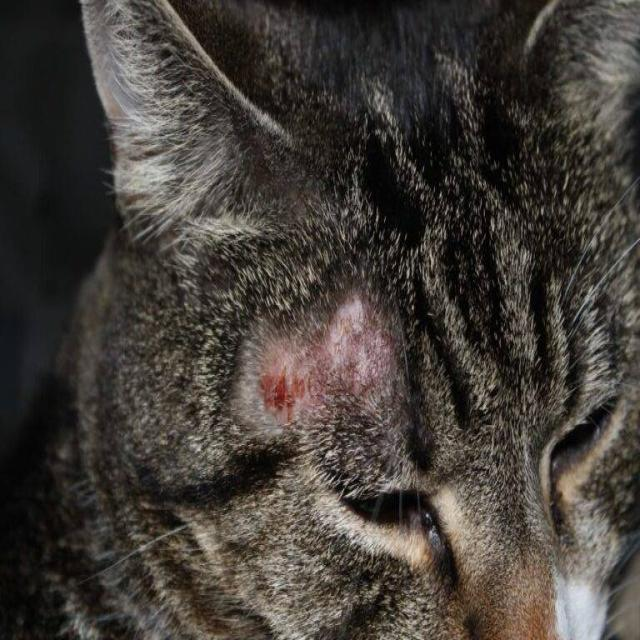hac lao: (203, 286, 434, 464)
